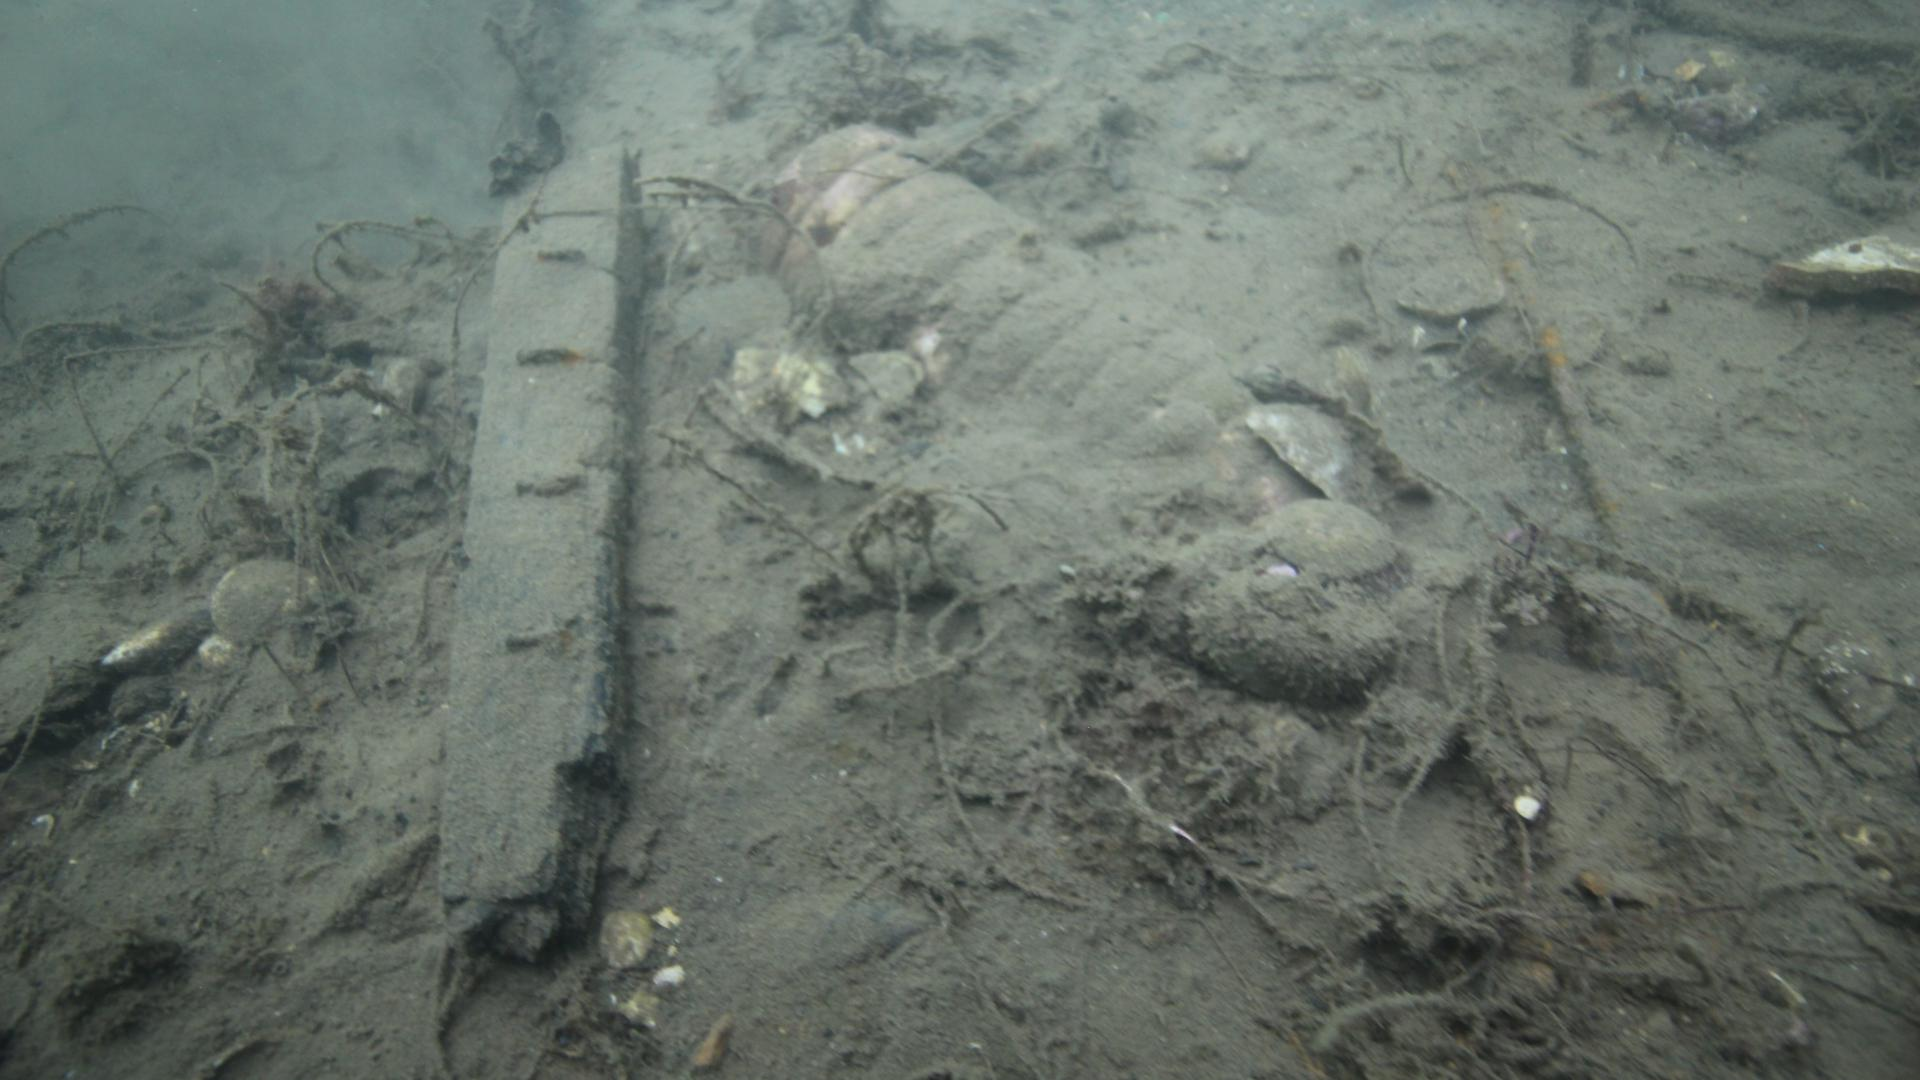wood: (436, 140, 647, 965)
